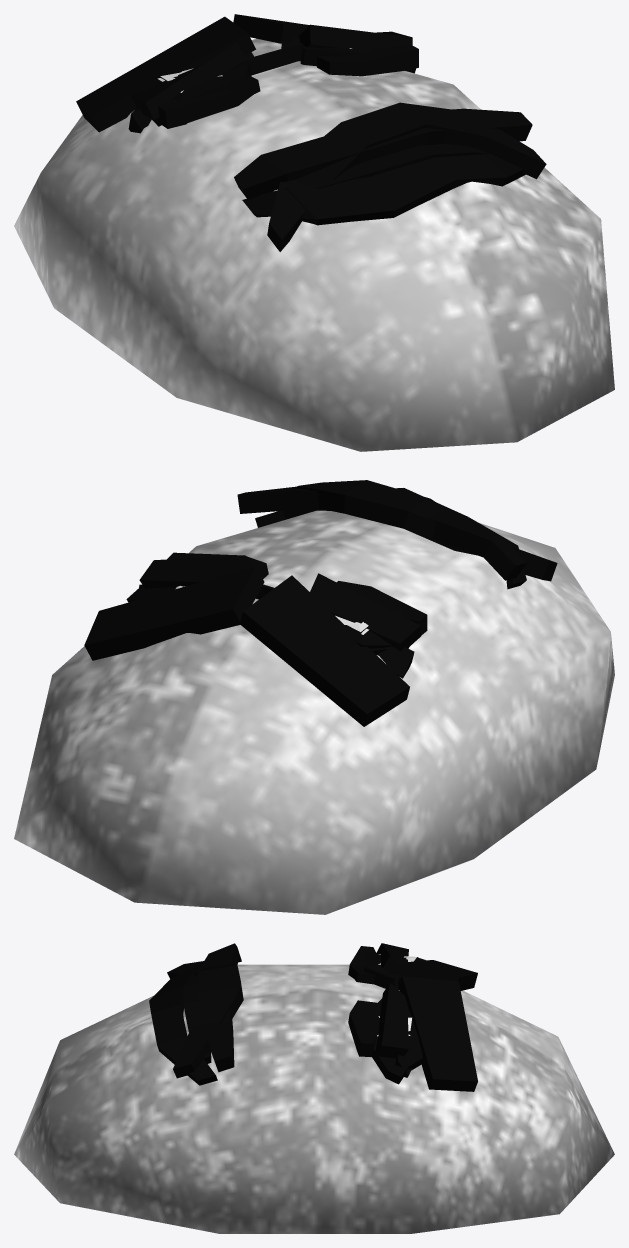
The model's file is SM_Masks.fbx.
3 renders of one model, top to bottom at view 1: azimuth 30°, elevation 25°; view 2: azimuth 150°, elevation 25°; view 3: azimuth 270°, elevation 25°, orthographic. The views are drawn at different scales.
Visible parts, largest first — view 1: Mask, Eyes3, Mouth1, UnhappyMouth1, Mouth3, Eyes4, Mouth4, Eyes1, Eyes2; view 2: Mask, Eyes3, UnhappyMouth1, Mouth3, Eyes4, Eyes1, Mouth1; view 3: Mask, Eyes3, UnhappyMouth1, Mouth1, Eyes4, Mouth3, Eyes1, Eyes2, Mouth4.
Boxes of the visible parts, box(x1,y1,x2,y2) form: Mask: box(14, 38, 614, 451); Eyes3: box(76, 14, 412, 132); Mouth1: box(242, 153, 525, 225); UnhappyMouth1: box(267, 102, 546, 251); Mouth3: box(234, 108, 532, 199); Eyes4: box(128, 38, 418, 133); Mouth4: box(303, 143, 488, 189); Eyes1: box(146, 43, 415, 102); Eyes2: box(151, 46, 371, 126); Mask: box(14, 510, 614, 914); Eyes3: box(84, 555, 421, 726); UnhappyMouth1: box(293, 480, 557, 581); Mouth3: box(237, 484, 526, 580); Eyes4: box(138, 552, 427, 678); Eyes1: box(126, 584, 404, 648); Mouth1: box(255, 488, 526, 589); Mask: box(14, 964, 614, 1233); Eyes3: box(374, 943, 477, 1091); UnhappyMouth1: box(167, 961, 243, 1078); Mouth1: box(149, 963, 217, 1085); Eyes4: box(348, 946, 418, 1077); Mouth3: box(197, 943, 241, 1072); Eyes1: box(365, 952, 425, 1084); Eyes2: box(364, 956, 430, 1070); Mouth4: box(183, 969, 211, 1063).
Size of the model in its own units: 24.59 by 39.07 by 13.56.
3 materials, 1 textured.
